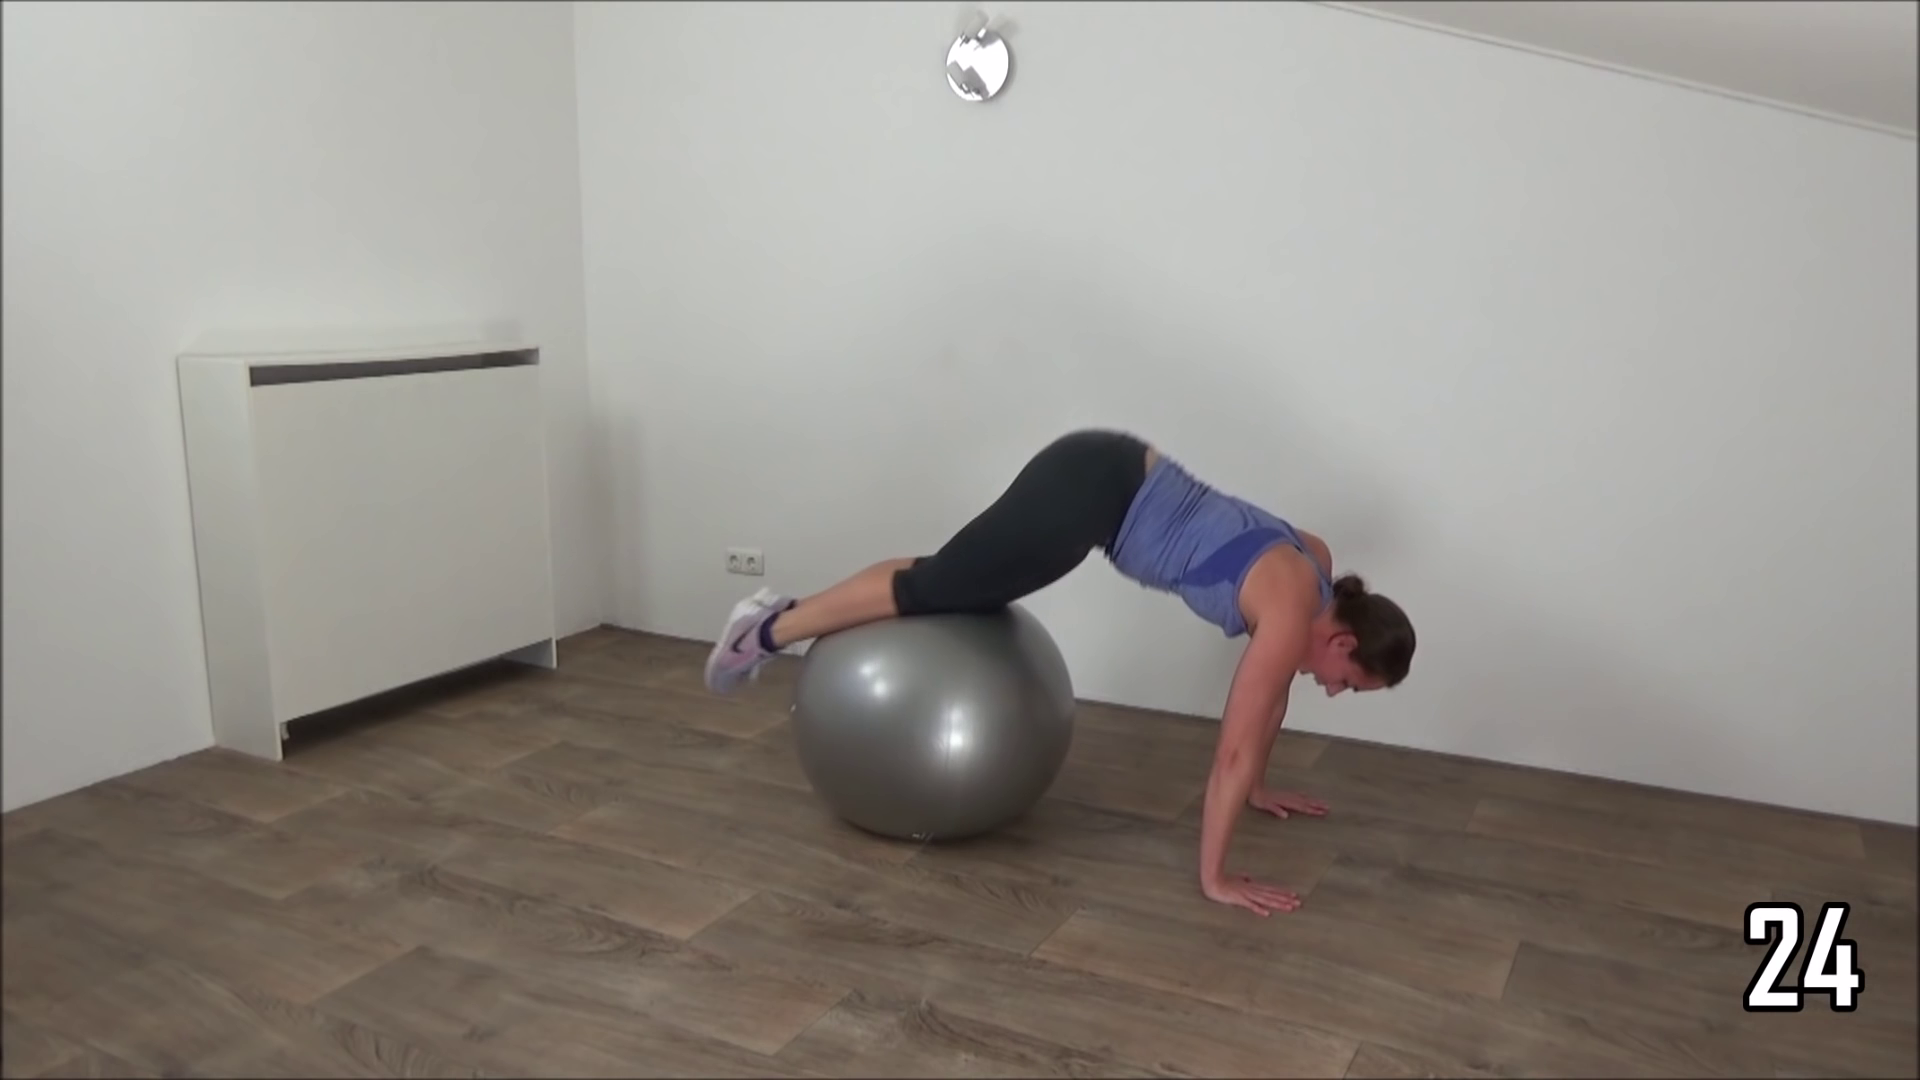yogaball: (781, 582, 1084, 860)
